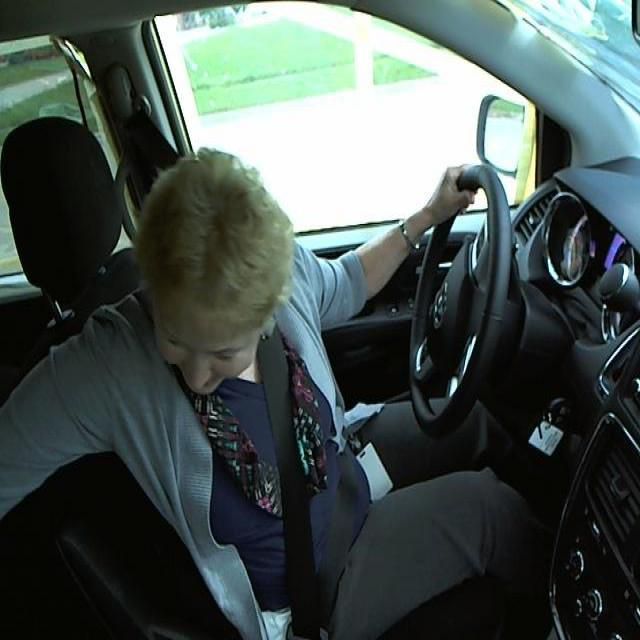seatbelt: (256, 361, 371, 623)
